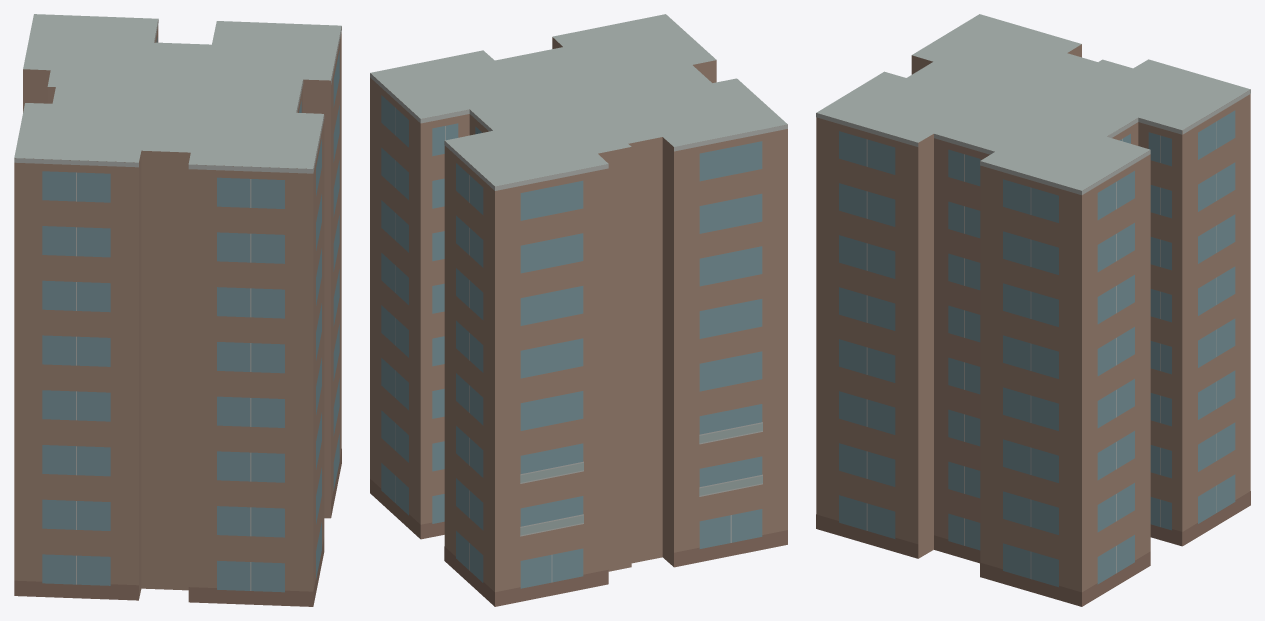
Rendered from survey-upis-32725937.glb.
3 renders of one model, left to right at view 1: azimuth 30°, elevation 25°; view 2: azimuth 150°, elevation 25°; view 3: azimuth 270°, elevation 25°, orthographic. The views are drawn at different scales.
Visible parts, largest first — view 1: survey-upis-32725937.tmp; view 2: survey-upis-32725937.tmp; view 3: survey-upis-32725937.tmp.
Part boxes in pixels (bbox=[...]): survey-upis-32725937.tmp: bbox=[14, 14, 341, 606]; survey-upis-32725937.tmp: bbox=[370, 14, 787, 606]; survey-upis-32725937.tmp: bbox=[816, 14, 1250, 606].
Size of the model in its own units: 20.79 by 22.8 by 21.59.
